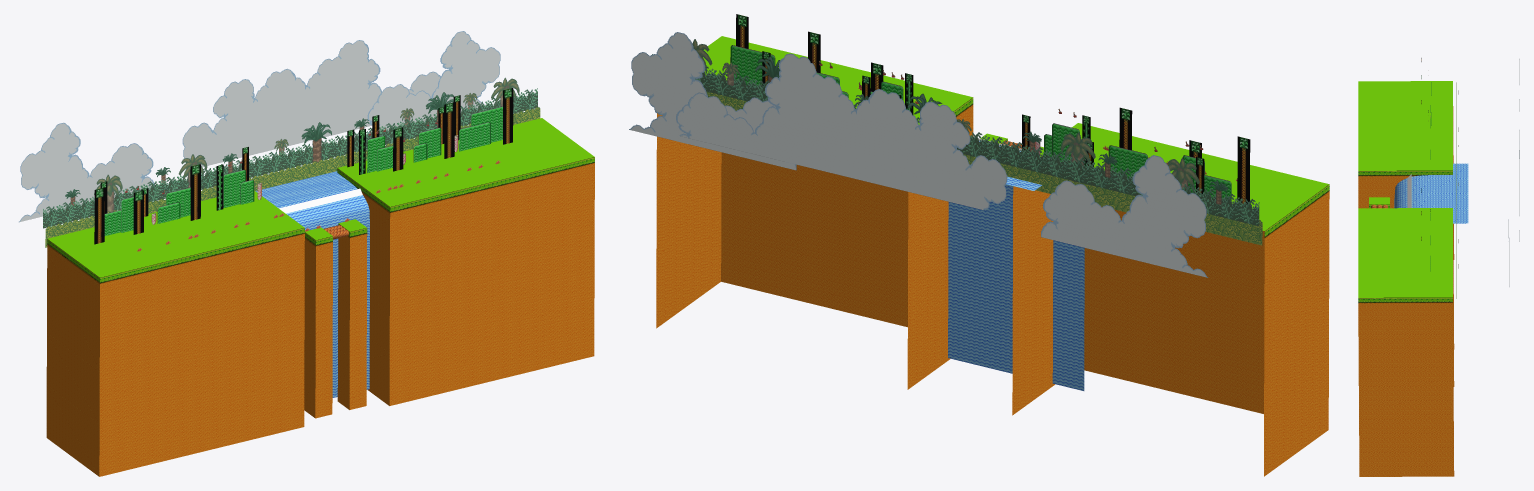
File: mushroomkingdom2.obj
The picture shows the model from 3 angles, left to right: view 1: azimuth 30°, elevation 25°; view 2: azimuth 150°, elevation 25°; view 3: azimuth 270°, elevation 25°; orthographic projection. The views are drawn at different scales.
Parts seen in each view (by area): view 1: DrawCall_54, DrawCall_55, DrawCall_155, DrawCall_156, DrawCall_146, DrawCall_154, DrawCall_140, DrawCall_77, DrawCall_78, DrawCall_53, DrawCall_74, DrawCall_114 (+5 smaller); view 2: DrawCall_54, DrawCall_155, DrawCall_78, DrawCall_156, DrawCall_55, DrawCall_146, DrawCall_154, DrawCall_140, DrawCall_53, DrawCall_114, DrawCall_142; view 3: DrawCall_54, DrawCall_55, DrawCall_77, DrawCall_53, DrawCall_74, DrawCall_140.
Part boxes in pixels (bbox=[...]): DrawCall_54: bbox=[46, 167, 594, 476]; DrawCall_55: bbox=[47, 118, 594, 288]; DrawCall_155: bbox=[182, 40, 440, 166]; DrawCall_156: bbox=[19, 122, 154, 222]; DrawCall_146: bbox=[43, 88, 537, 228]; DrawCall_154: bbox=[367, 31, 500, 133]; DrawCall_140: bbox=[45, 107, 540, 247]; DrawCall_77: bbox=[255, 171, 365, 217]; DrawCall_78: bbox=[303, 210, 369, 397]; DrawCall_53: bbox=[83, 215, 294, 270]; DrawCall_74: bbox=[373, 144, 584, 199]; DrawCall_114: bbox=[94, 187, 143, 244]; DrawCall_54: bbox=[656, 110, 1329, 476]; DrawCall_155: bbox=[676, 53, 1007, 210]; DrawCall_78: bbox=[948, 184, 1084, 390]; DrawCall_156: bbox=[1041, 155, 1208, 277]; DrawCall_55: bbox=[703, 36, 1329, 243]; DrawCall_146: bbox=[652, 54, 1259, 226]; DrawCall_154: bbox=[629, 32, 796, 170]; DrawCall_140: bbox=[706, 91, 1262, 245]; DrawCall_53: bbox=[1080, 135, 1316, 199]; DrawCall_114: bbox=[1189, 136, 1250, 203]; DrawCall_142: bbox=[1060, 132, 1095, 183]; DrawCall_54: bbox=[1358, 106, 1454, 476]; DrawCall_55: bbox=[1358, 81, 1452, 307]; DrawCall_77: bbox=[1402, 163, 1468, 223]; DrawCall_53: bbox=[1375, 81, 1389, 170]; DrawCall_74: bbox=[1375, 208, 1389, 297]; DrawCall_140: bbox=[1456, 82, 1456, 298].
Size of the model in its own units: 5914 by 3281 by 1864.
Materials: 20 (20 with a texture image).
